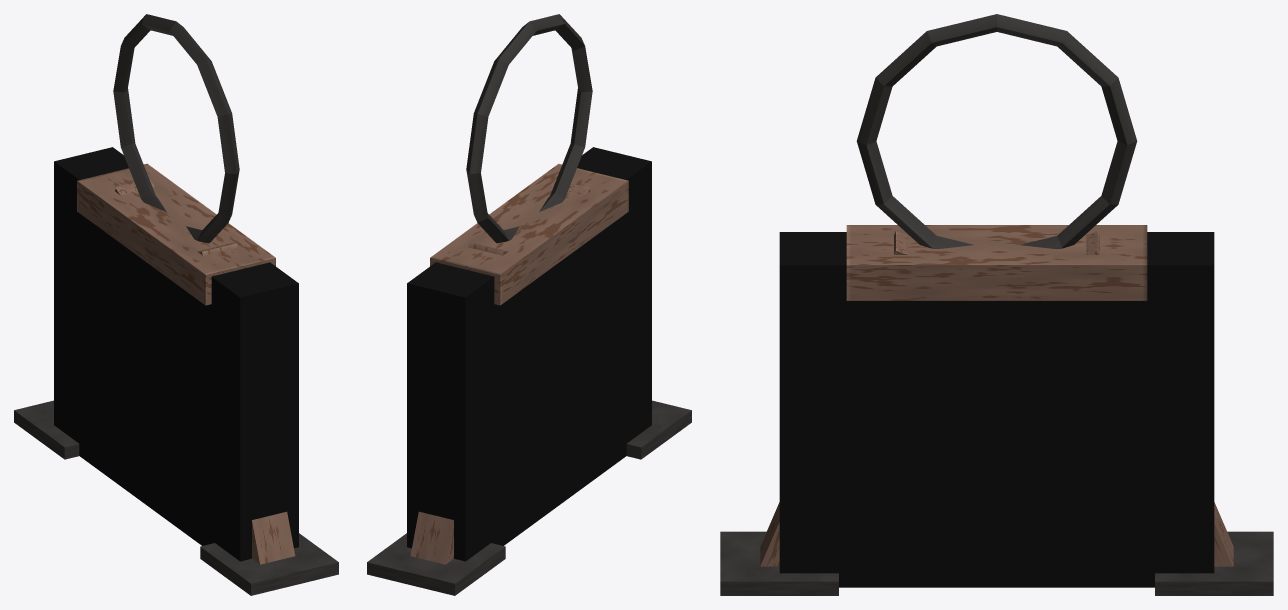
File: pipe_trestle.fbx
3 views of the same model, side by side, from view 1: azimuth 30°, elevation 25°; view 2: azimuth 150°, elevation 25°; view 3: azimuth 270°, elevation 25° (orthographic). The views are drawn at different scales.
Parts seen in each view (by area): view 1: col_legs, pipe_trestle; view 2: col_legs, pipe_trestle; view 3: col_legs, pipe_trestle.
Boxes of the visible parts, x1,y1,x2,y2 form: col_legs: (54,147,298,561); pipe_trestle: (14,14,338,595); col_legs: (407,147,651,561); pipe_trestle: (367,14,691,595); col_legs: (779,232,1214,587); pipe_trestle: (720,14,1273,595).
Bounding box in the file's own units: 0.3 × 1.58 × 1.4.
1 material, 1 textured.
